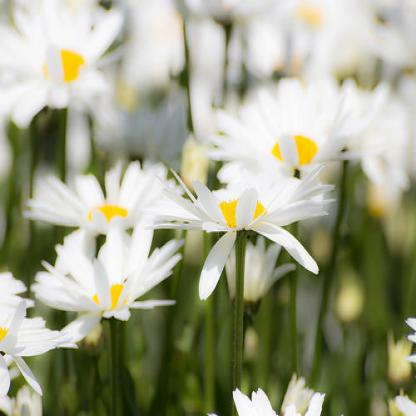ASTER: (6, 6, 412, 402)
